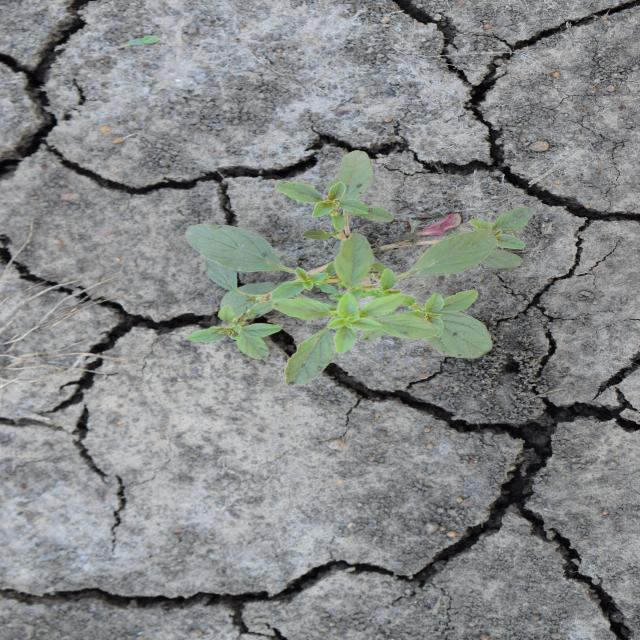Waterhemp: (180, 148, 537, 387)
